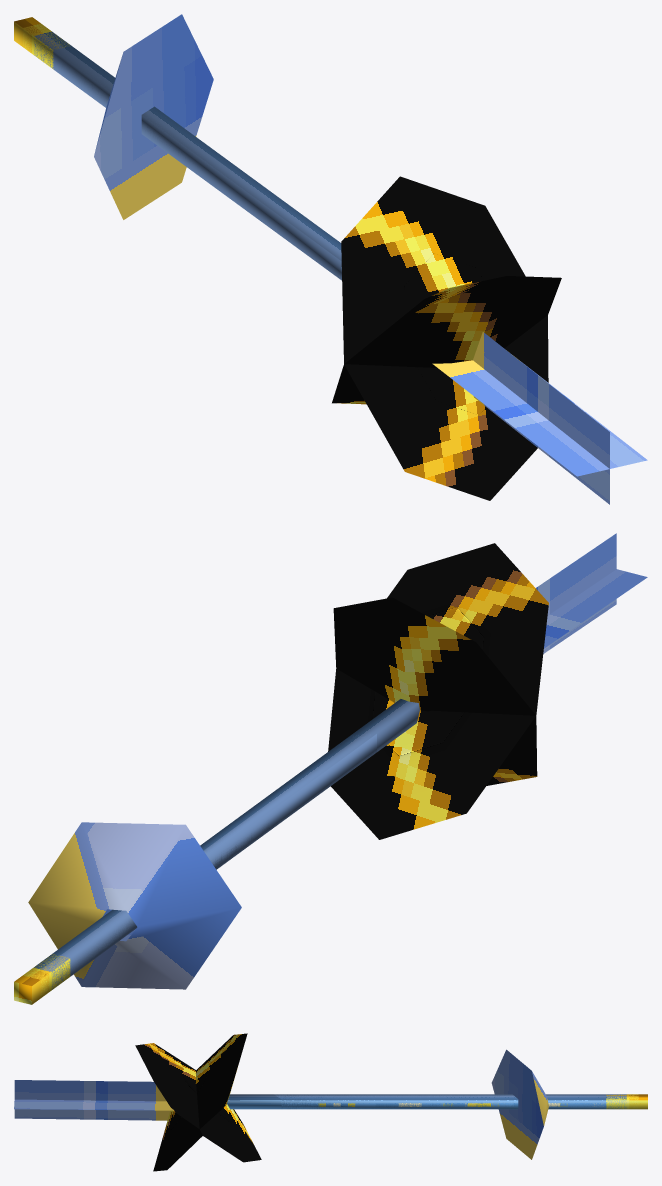
3 views of the same model, one above another, from view 1: azimuth 30°, elevation 25°; view 2: azimuth 150°, elevation 25°; view 3: azimuth 270°, elevation 25° (orthographic). The views are drawn at different scales.
Visible parts, largest first — view 1: 01_04_stick; view 2: 01_04_stick; view 3: 01_04_stick.
Boxes of the visible parts, left/top/right/bottom form: 01_04_stick: left=14, top=14, right=647, bottom=504; 01_04_stick: left=14, top=533, right=647, bottom=1004; 01_04_stick: left=14, top=1033, right=647, bottom=1171.
Bounding box in the file's own units: 0.2778 × 0.3376 × 1.41.
Materials: 2 (2 with a texture image).
